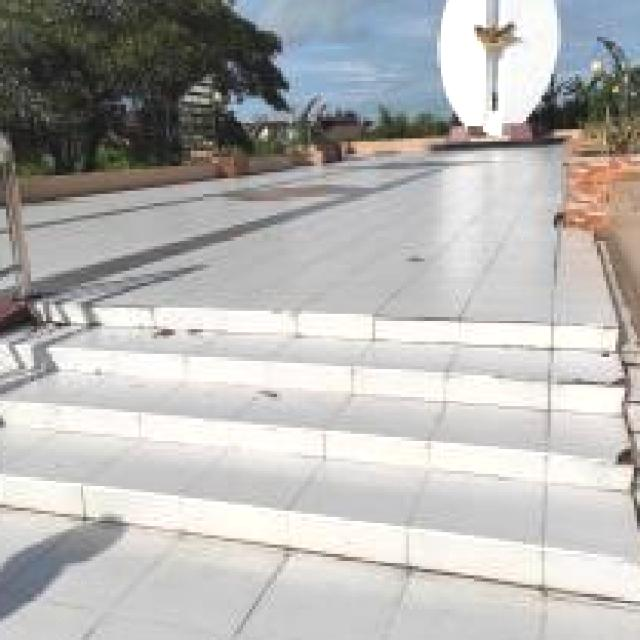upstair: (35, 287, 640, 620)
